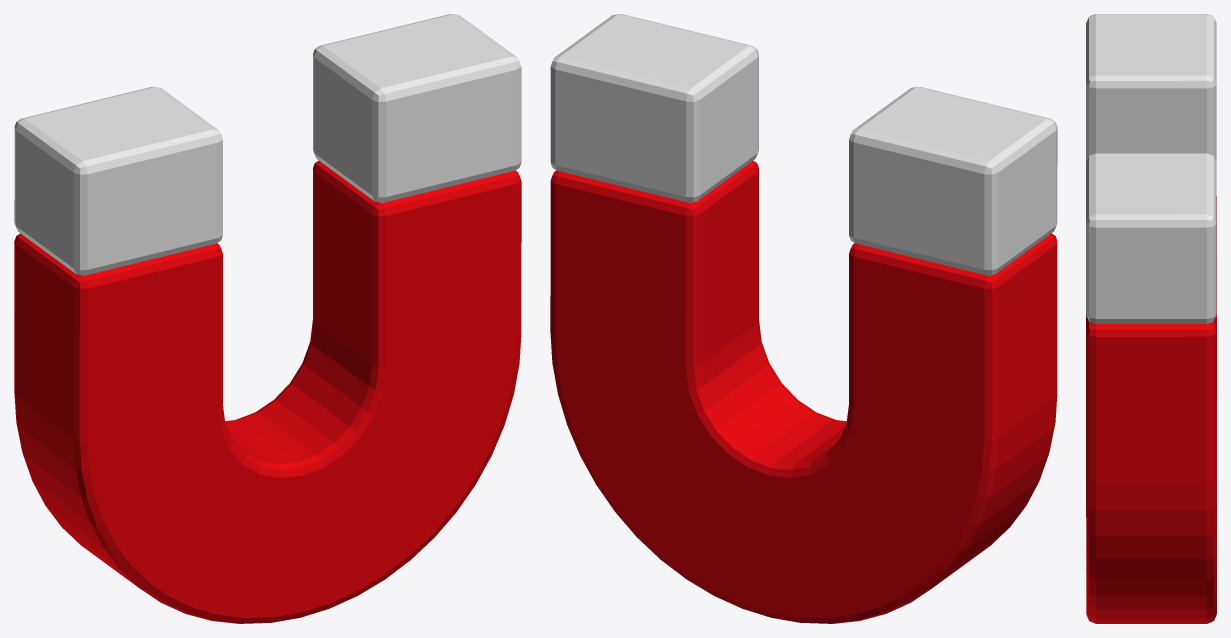
Rendered from magnet_model.glb.
The picture shows the model from 3 angles, left to right: view 1: azimuth 30°, elevation 25°; view 2: azimuth 150°, elevation 25°; view 3: azimuth 270°, elevation 25°; orthographic projection. The views are drawn at different scales.
Visible parts, largest first — view 1: Circle; view 2: Circle; view 3: Circle.
Part boxes in pixels (<box>): Circle: <box>14,14,521,623</box>; Circle: <box>550,14,1057,623</box>; Circle: <box>1086,14,1216,623</box>.
Size of the model in its own units: 2 by 2.18 by 0.5311.
